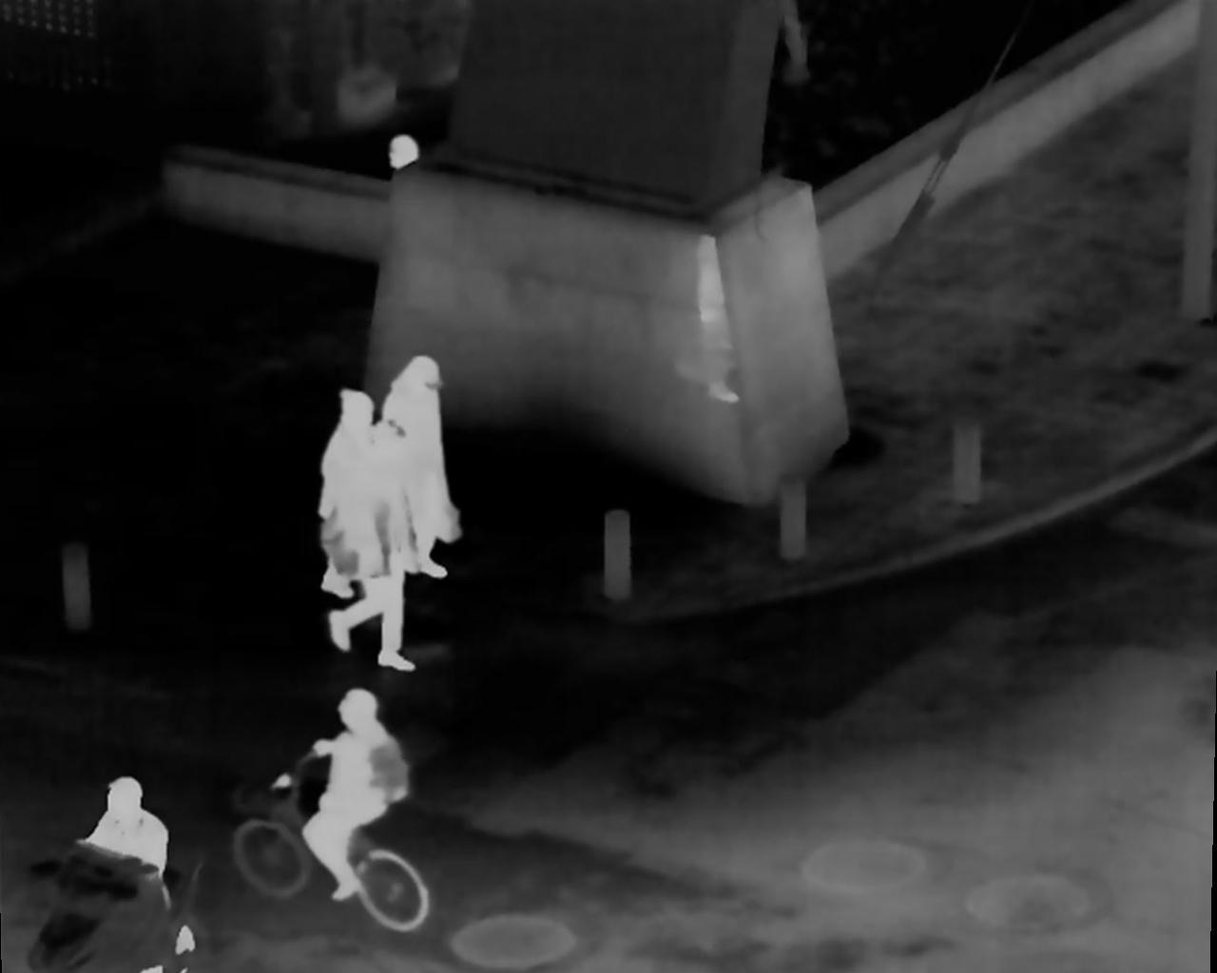person: (84, 767, 200, 962), (333, 393, 412, 675), (305, 693, 408, 898), (381, 357, 462, 576)
